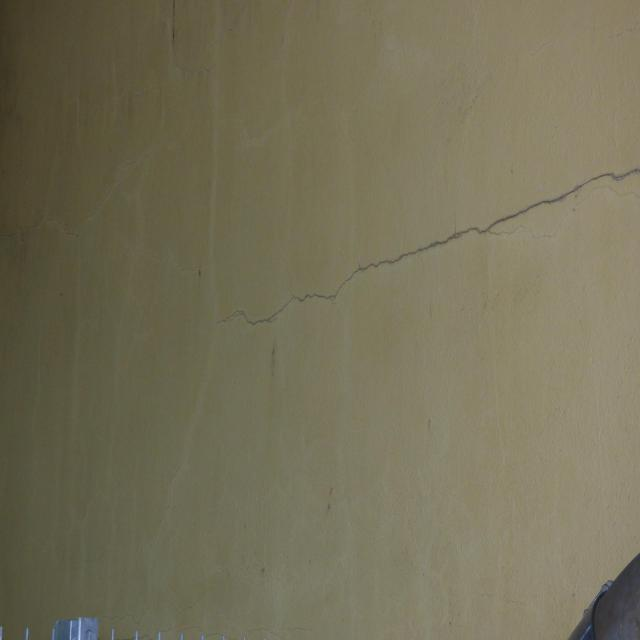diagonal crack: (149, 163, 640, 356), (1, 134, 170, 242)
